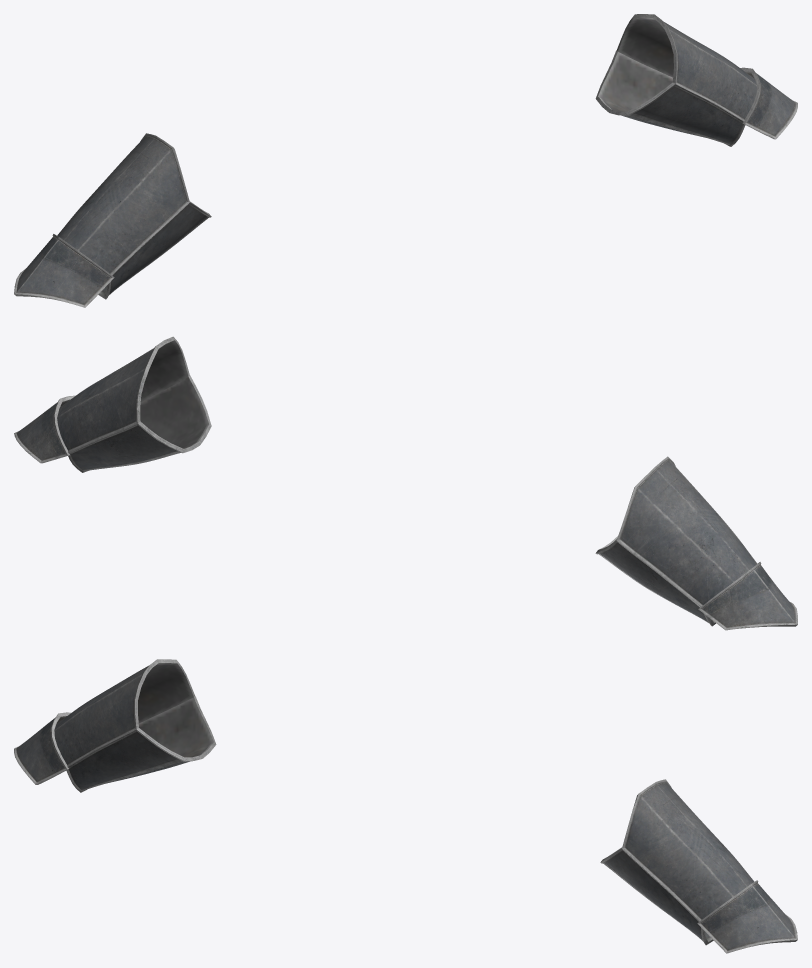
The model's file is sk_dwarf_erebor_bracers_heavy_a.fbx.
3 renders of one model, top to bottom at view 1: azimuth 30°, elevation 25°; view 2: azimuth 150°, elevation 25°; view 3: azimuth 330°, elevation 25°, orthographic.
Parts seen in each view (by area): view 1: sk_dwarf_erebor_bracers_heavy_a; view 2: sk_dwarf_erebor_bracers_heavy_a; view 3: sk_dwarf_erebor_bracers_heavy_a.
Boxes of the visible parts, <box> form: sk_dwarf_erebor_bracers_heavy_a: <box>14,14,797,307</box>; sk_dwarf_erebor_bracers_heavy_a: <box>14,336,797,630</box>; sk_dwarf_erebor_bracers_heavy_a: <box>14,659,797,953</box>.
Bounding box in the file's own units: 1.34 × 0.1652 × 0.2297.
1 material, 1 textured.
